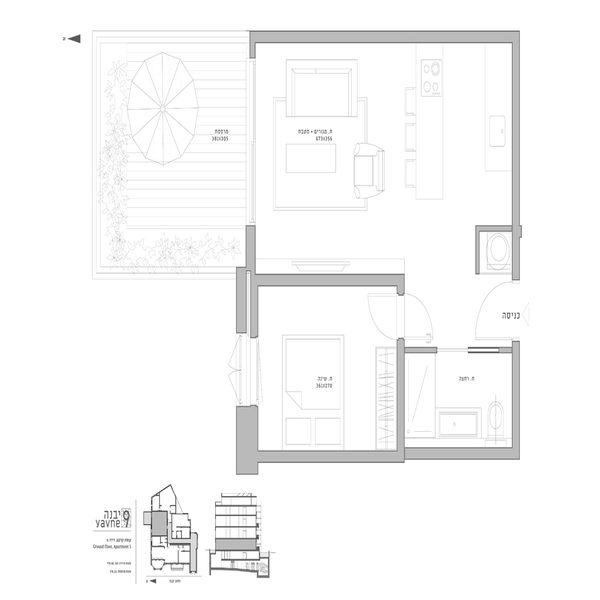door: (465, 281, 523, 344), (398, 293, 444, 348), (362, 288, 404, 344)
room: (247, 29, 525, 287), (234, 267, 408, 464), (391, 340, 522, 456)
wall: (254, 30, 520, 42), (255, 275, 405, 291), (258, 448, 404, 461), (513, 44, 521, 279), (407, 446, 517, 459), (237, 405, 258, 473), (513, 346, 525, 455), (397, 342, 407, 445), (237, 270, 247, 331), (247, 227, 258, 271)
window: (246, 59, 258, 224), (238, 335, 264, 404)
